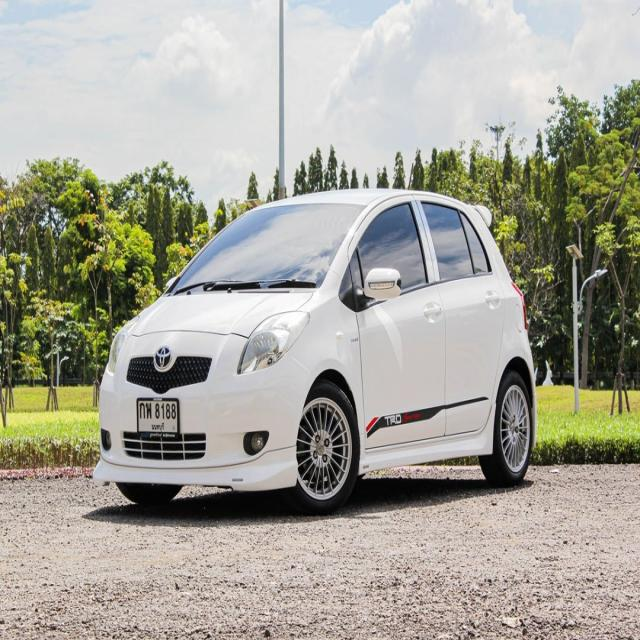license_plate: (132, 388, 186, 442)
